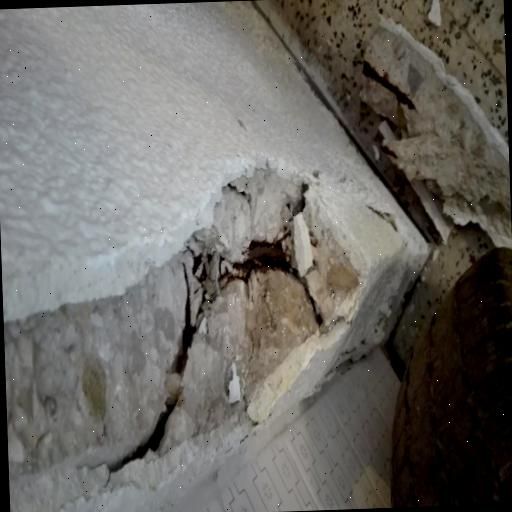spalling: (7, 170, 366, 512)
